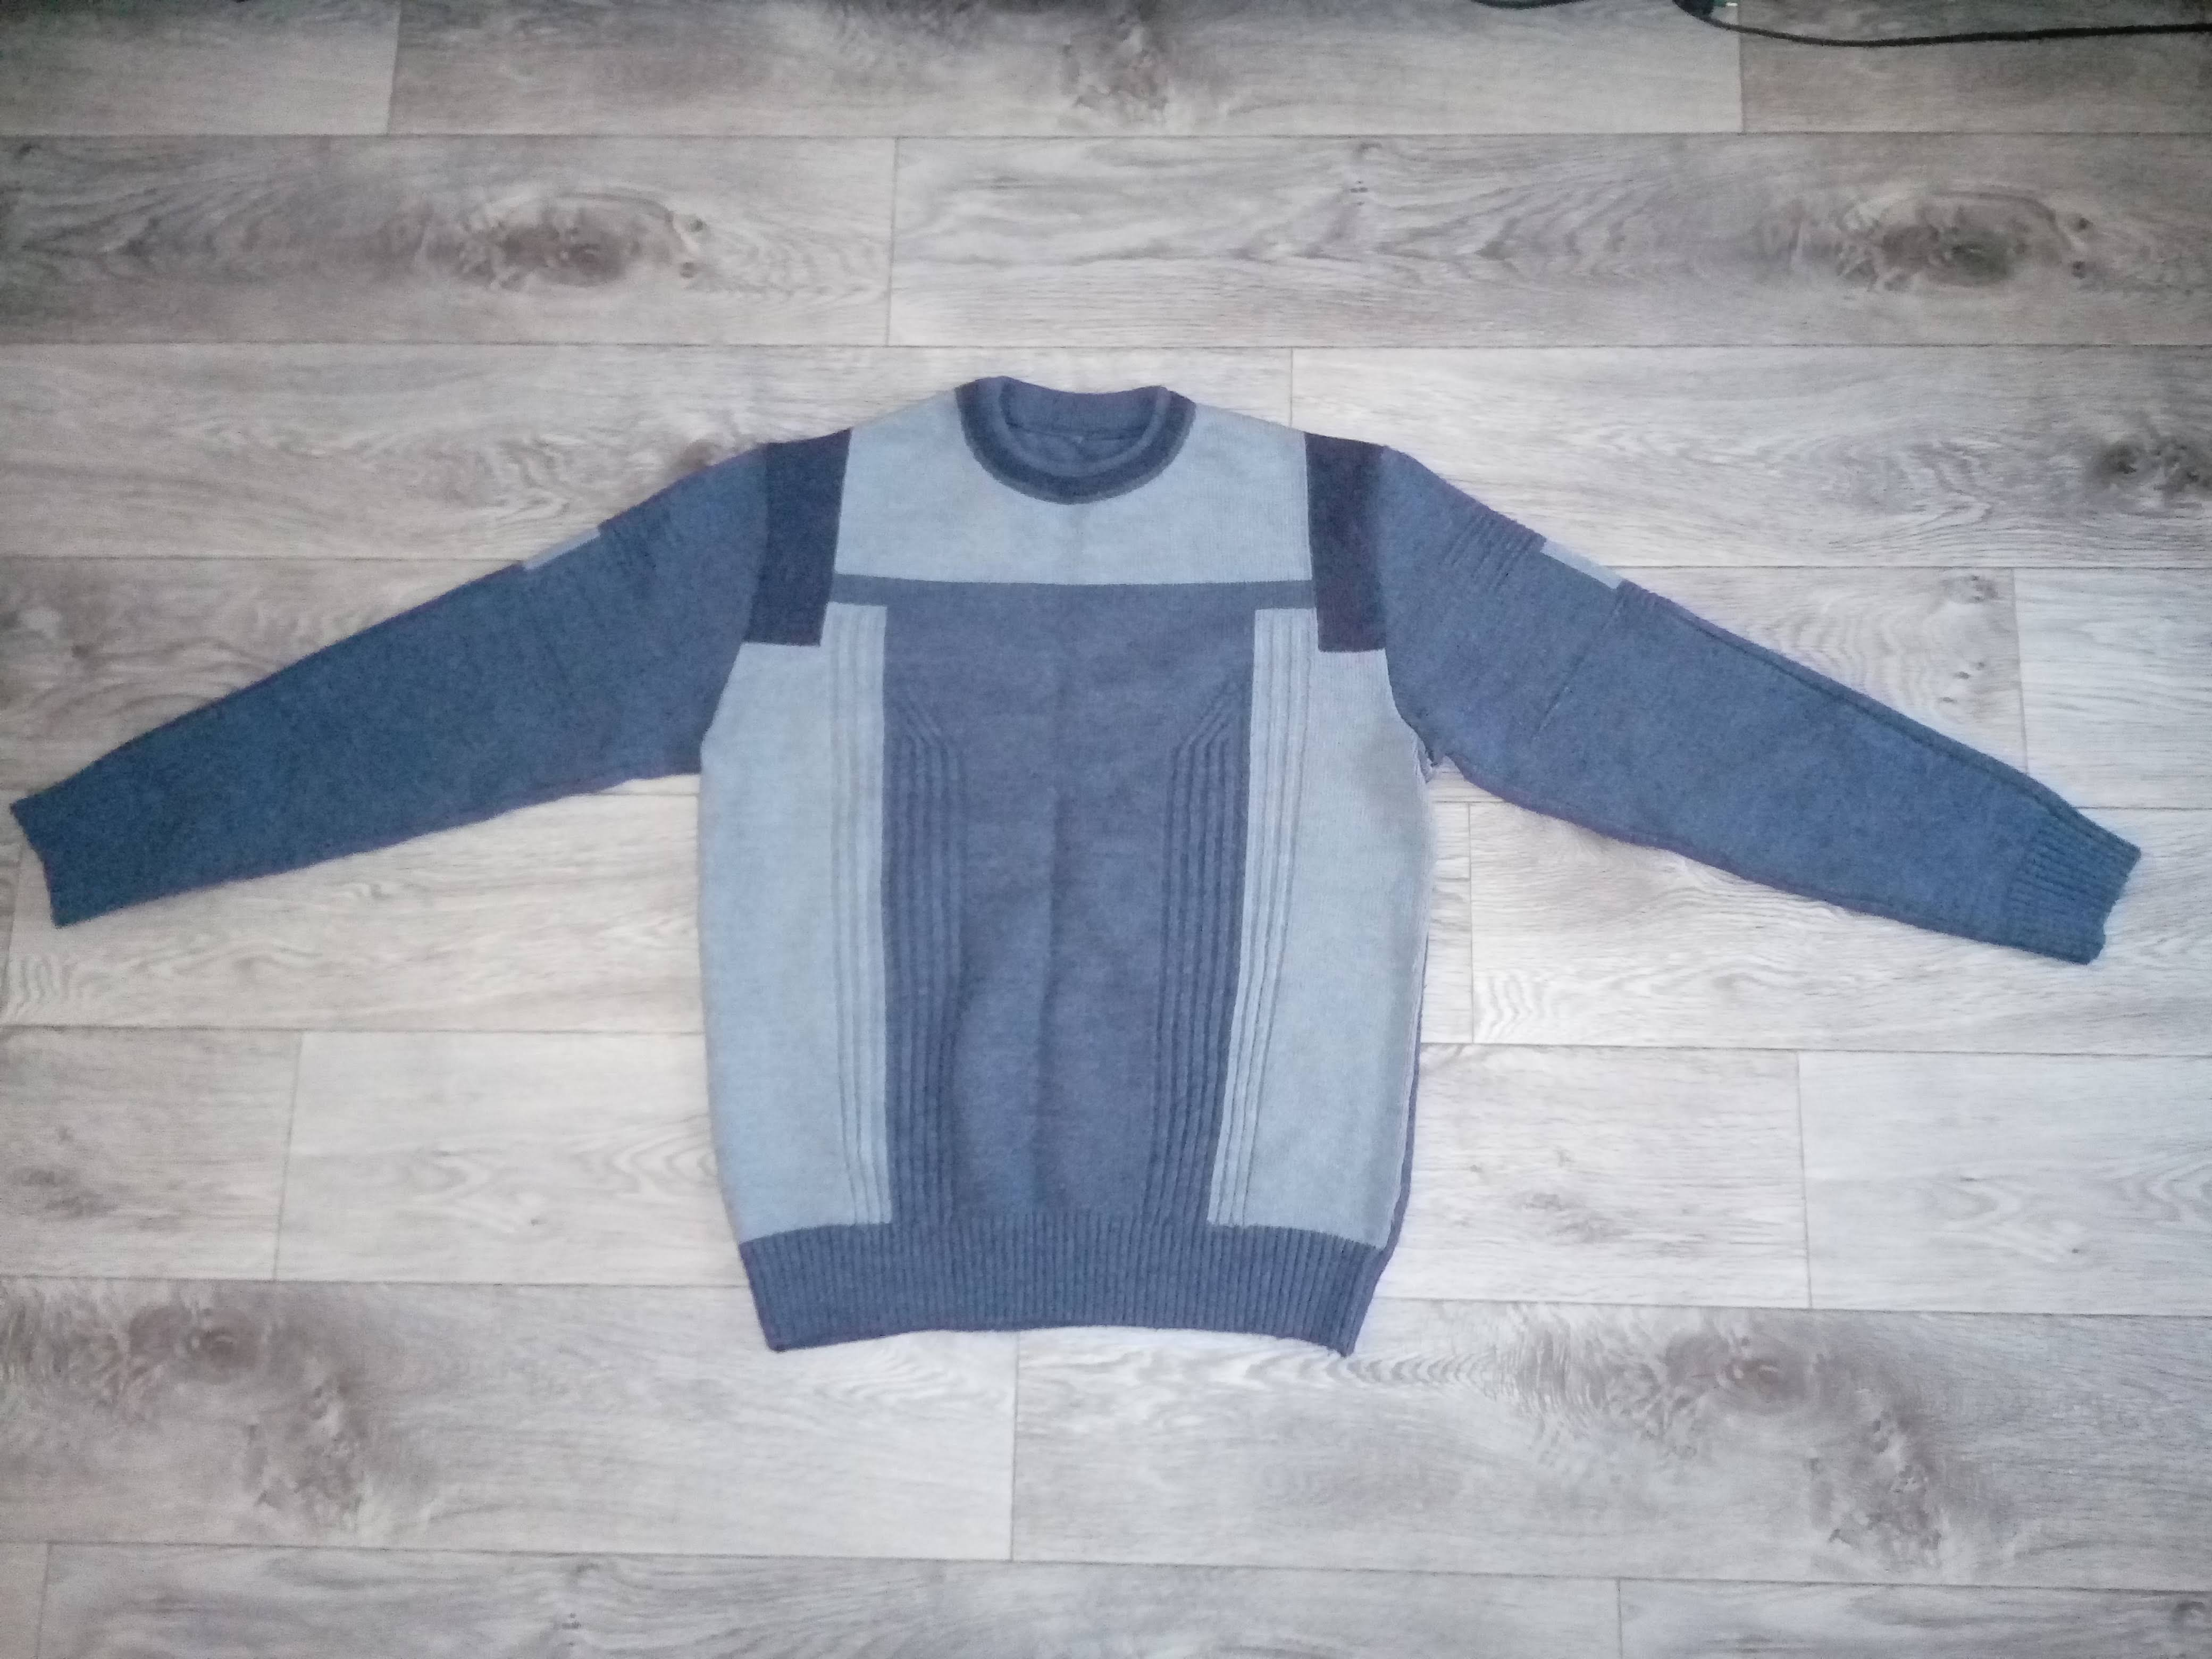clothes: (52, 366, 2149, 1356)
